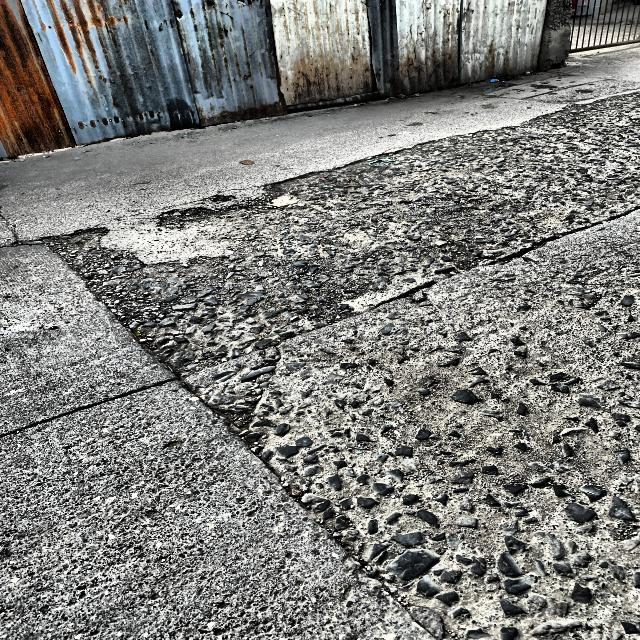major_scaling: (250, 224, 625, 640), (44, 91, 640, 337)
